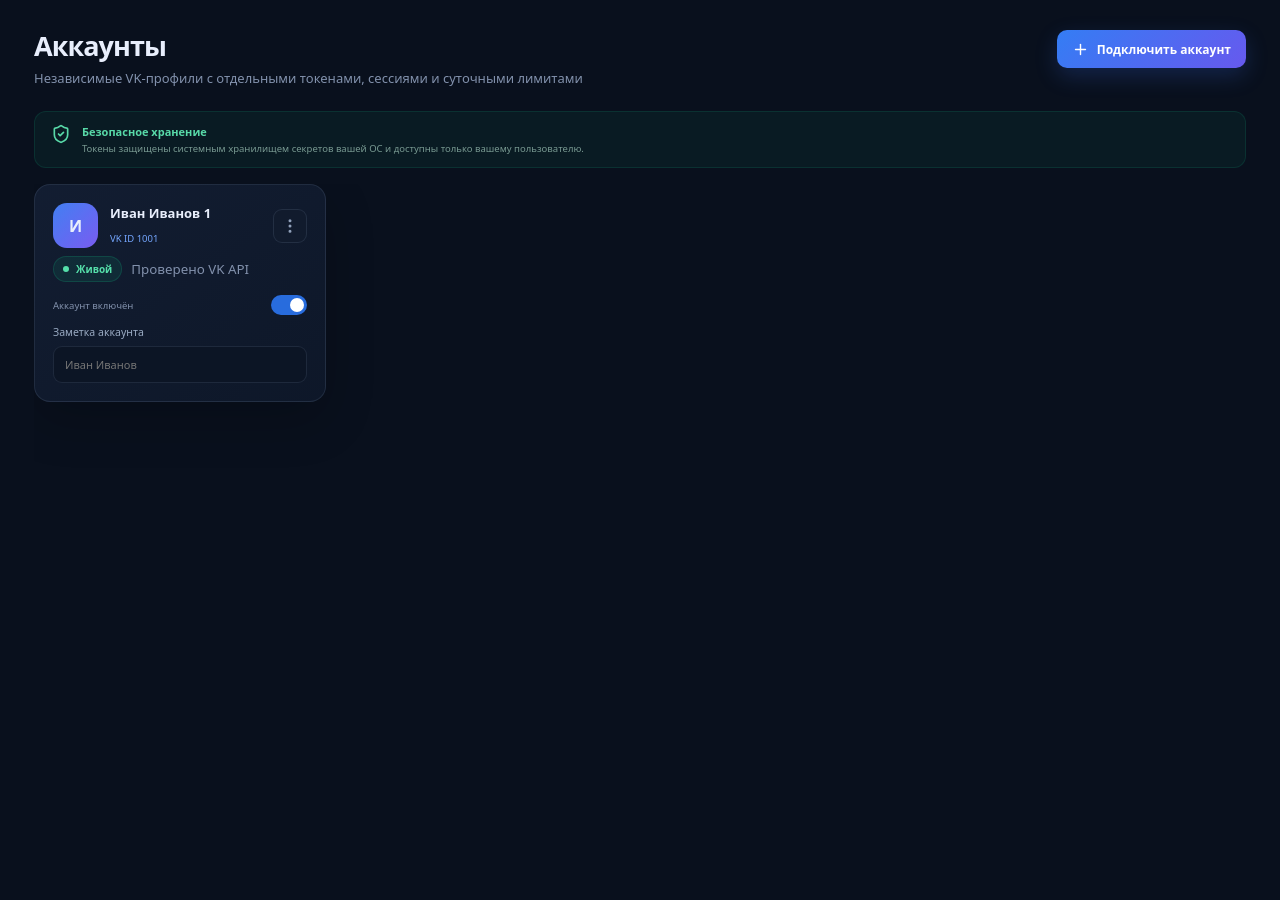
Test case: AccountsPage › hides diagnostics and opens a functional account menu
Check: the heading "Иван Иванов 1" is shown, box [110, 204, 211, 222]
Click the button named "Меню аккаунта Иван Иванов 1".
click(290, 226)  # box [272, 209, 306, 243]
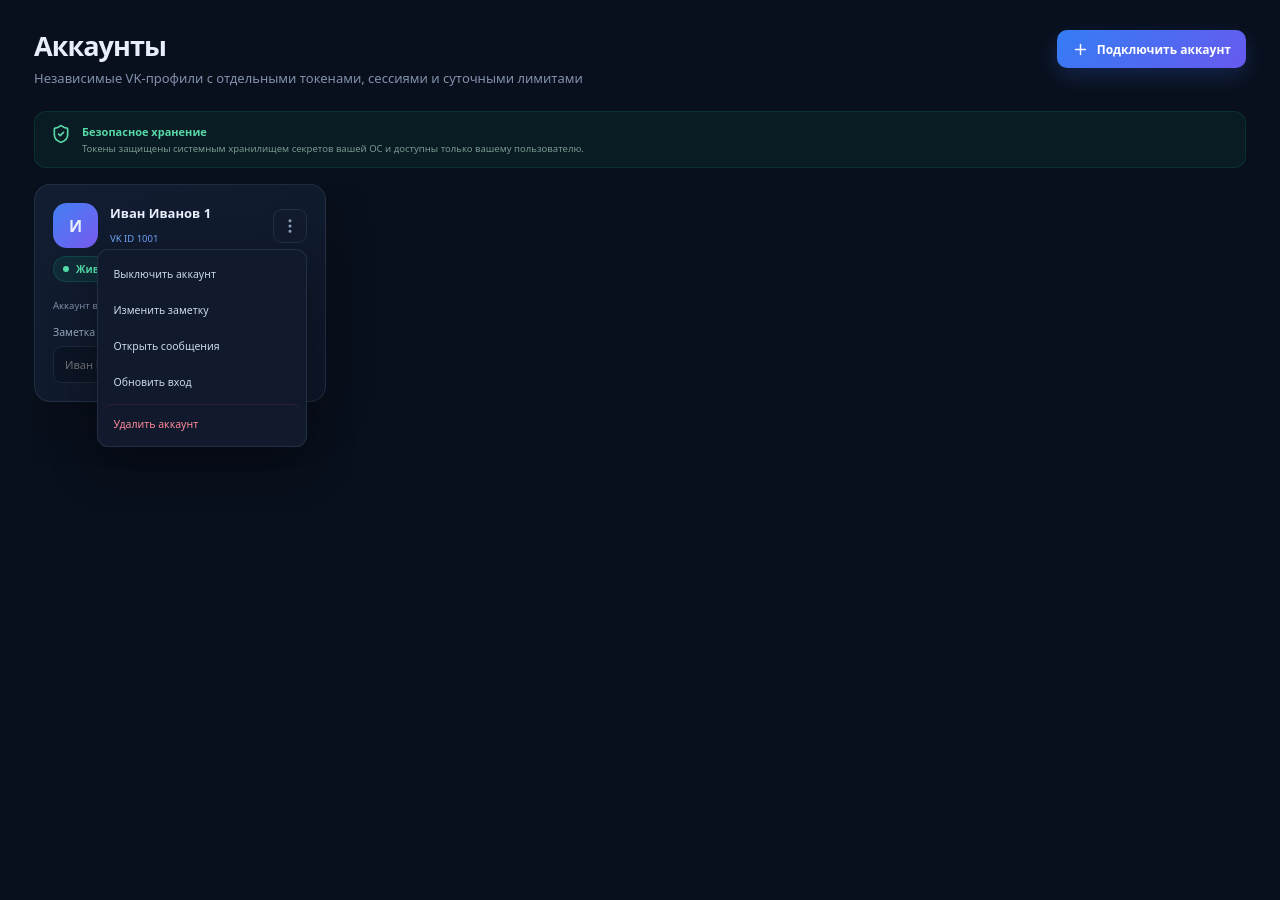
Check: the menu is shown, box [96, 249, 306, 447]
Check: the menu item "Открыть сообщения" is shown, box [104, 328, 300, 364]
Check: the menu item "Обновить вход" is shown, box [104, 364, 300, 400]
Press Escape
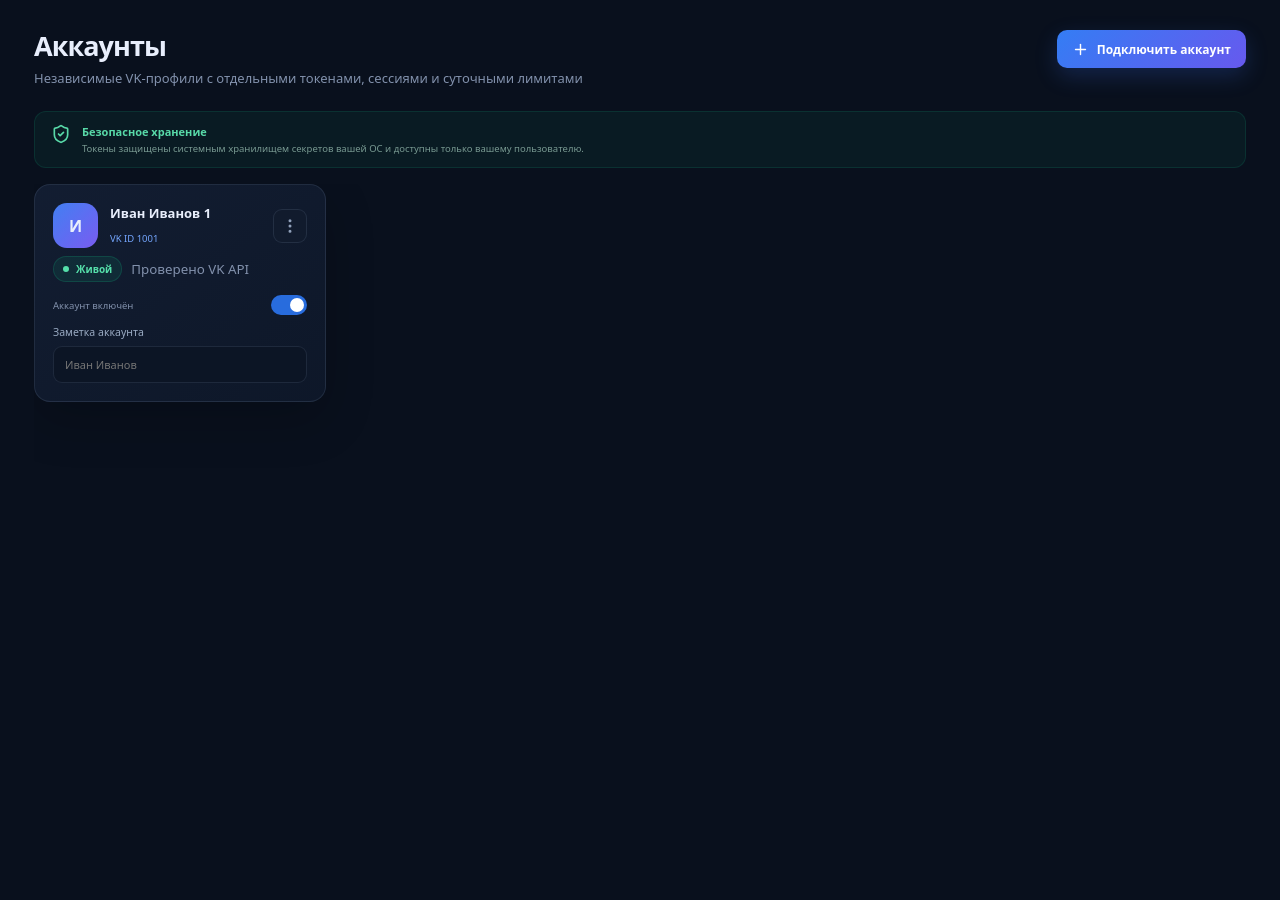
Check: the menu is gone
